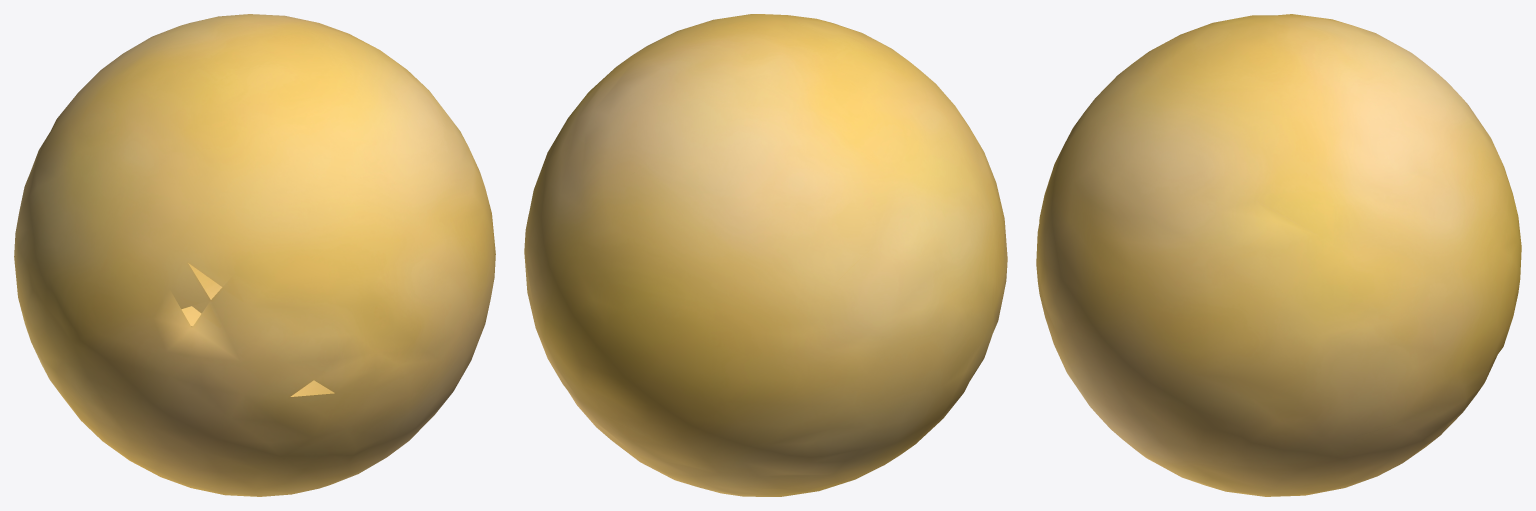
File: SM_PetPart_YinglongPearl_tripo_v1.glb
The picture shows the model from 3 angles, left to right: view 1: azimuth 30°, elevation 25°; view 2: azimuth 150°, elevation 25°; view 3: azimuth 270°, elevation 25°; orthographic projection.
Parts seen in each view (by area): view 1: tripo_node_5be01a1c-6967-4ccc-a60f-8f8c98427249; view 2: tripo_node_5be01a1c-6967-4ccc-a60f-8f8c98427249; view 3: tripo_node_5be01a1c-6967-4ccc-a60f-8f8c98427249.
Part boxes in pixels (x1,y1,x2,y2): tripo_node_5be01a1c-6967-4ccc-a60f-8f8c98427249: (14,14,495,496); tripo_node_5be01a1c-6967-4ccc-a60f-8f8c98427249: (524,14,1007,496); tripo_node_5be01a1c-6967-4ccc-a60f-8f8c98427249: (1036,14,1521,496).
Size of the model in its own units: 0.9995 by 0.9995 by 0.9995.
Materials: 1 (1 with a texture image).
